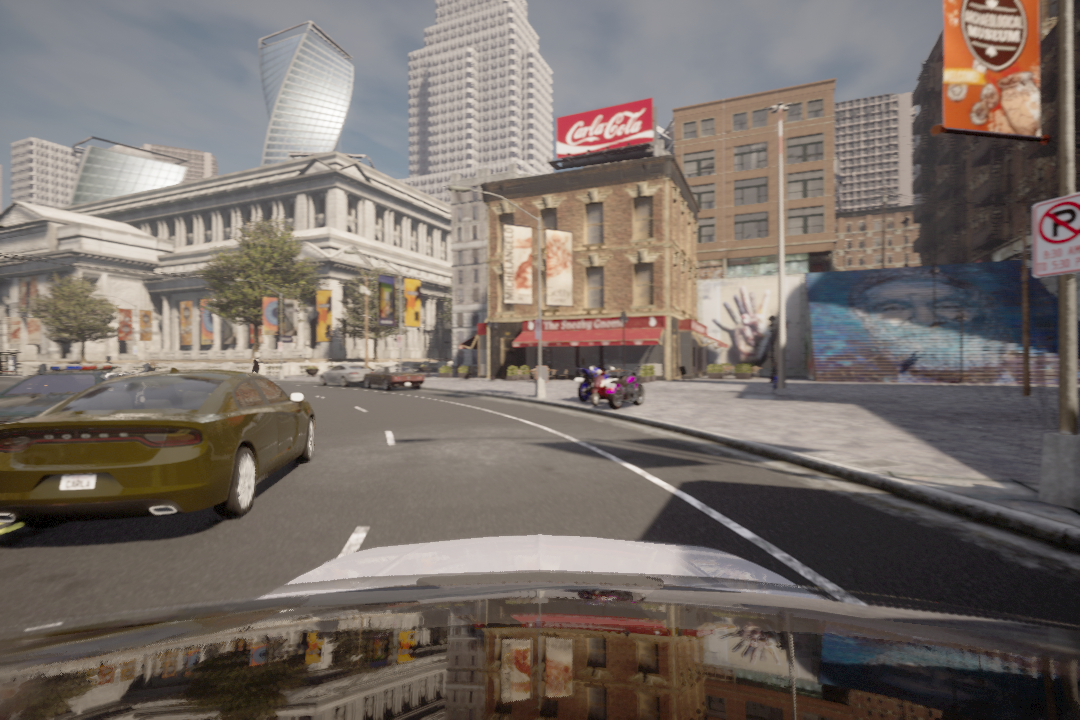TrafficSign_nstop: (1034, 196, 1077, 275)
